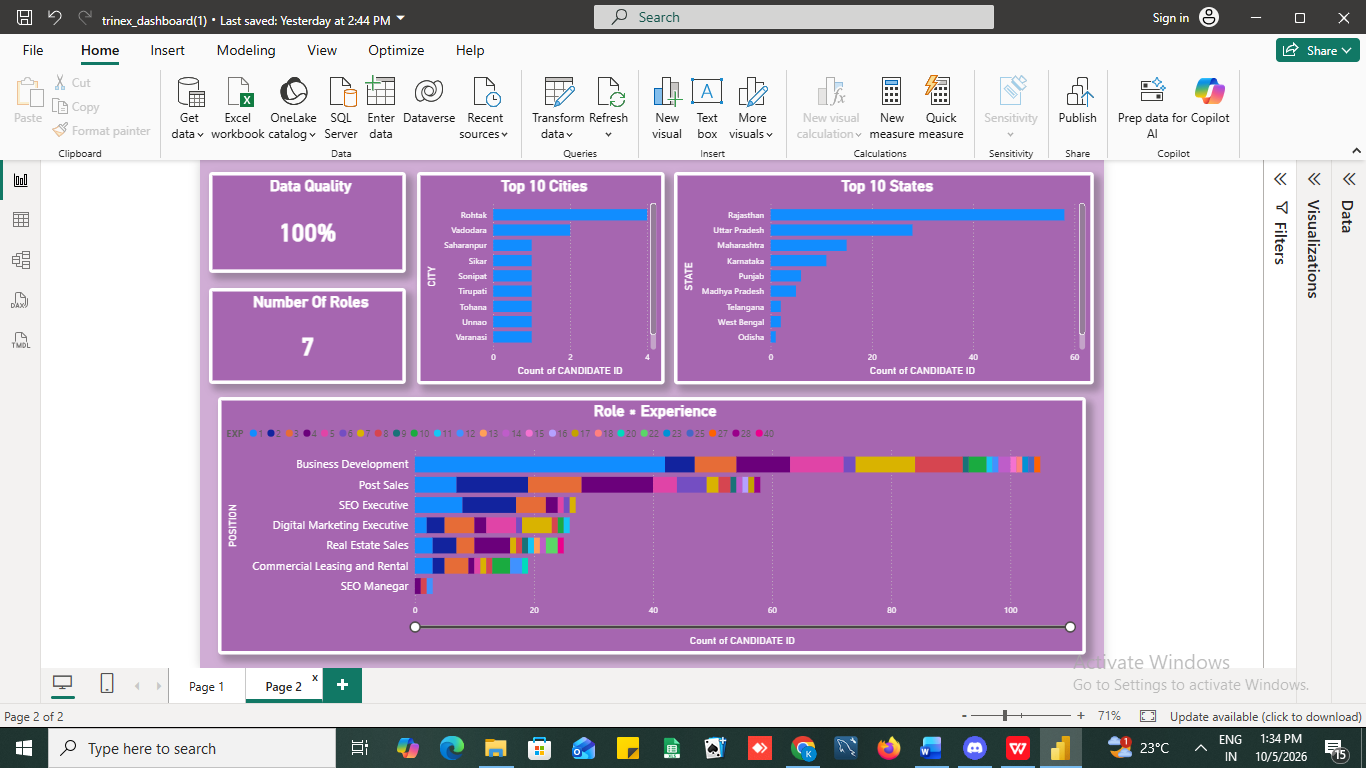

This screenshot's page, from the dashboard's own definition file:
{"tool":"powerbi","page":{"name":"Page 2","canvas":[1280,720],"ordinal":1},"visuals":[{"type":"clusteredBarChart","title":"Top 10 Cities","fields":{"Category":["Sheet1.CITY"],"Y":["CountNonNull(Sheet1.CANDIDATE ID)"]},"box":[307.4,16.8,351.1,300.7],"z":0},{"type":"card","title":"Data Quality","fields":{"Values":["Sheet1.Data_Quality_%"]},"box":[13.4,16.8,278.8,142.8],"z":1000},{"type":"barChart","title":"Role × Experience","fields":{"Category":["Sheet1.POSITION"],"Y":["CountNonNull(Sheet1.CANDIDATE ID)"],"Series":["Sheet1.EXP"]},"box":[25.2,336,1229.6,364.5],"z":2000},{"type":"clusteredBarChart","title":"Top 10 States","fields":{"Category":["Sheet1.STATE"],"Y":["CountNonNull(Sheet1.CANDIDATE ID)"]},"box":[671.9,16.8,594.6,300.7],"z":3000},{"type":"card","title":"Number Of Roles","fields":{"Values":["Sheet1.Total_Positions"]},"box":[13.4,181.4,278.8,136.1],"z":4001}]}

Visuals, with their boxes on the page's 1280x720 design canvas (x1, y1, x2, y2). These are canvas units, not pixel positions in the 1366x768 screenshot, which may show the page scaled, cropped or inside an application window:
"Top 10 Cities" clusteredBarChart: locate(307, 17, 658, 318)
"Data Quality" card: locate(13, 17, 292, 160)
"Role × Experience" barChart: locate(25, 336, 1255, 700)
"Top 10 States" clusteredBarChart: locate(672, 17, 1266, 318)
"Number Of Roles" card: locate(13, 181, 292, 318)
